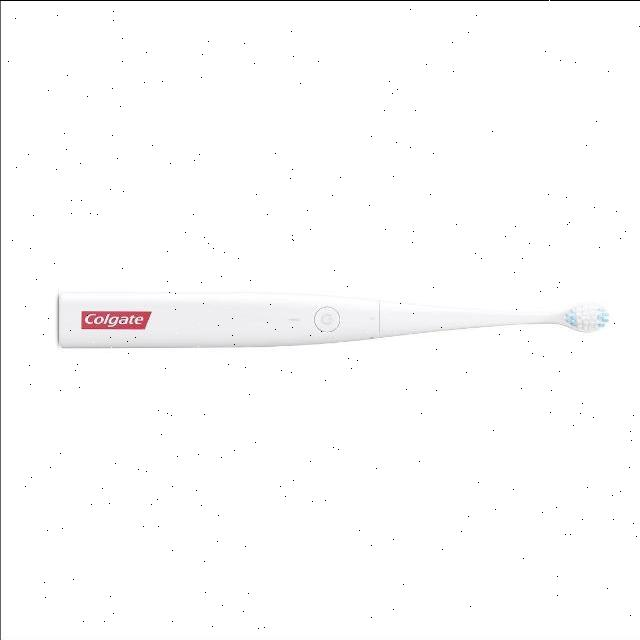toothbrush: (47, 278, 613, 374)
